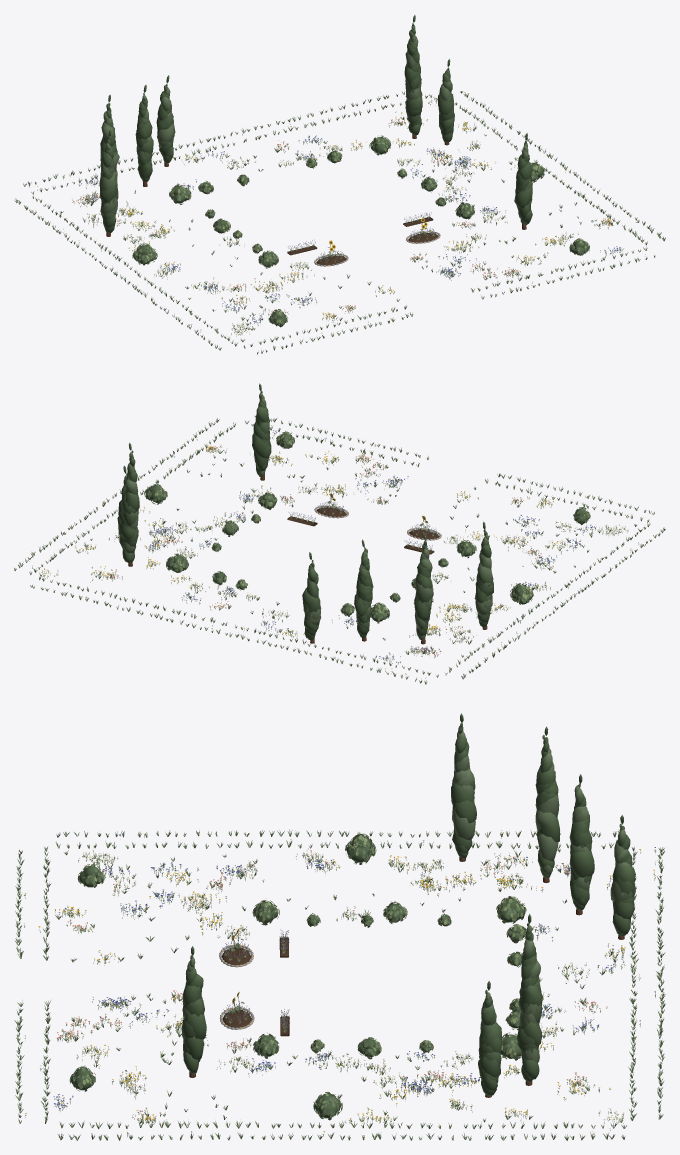
File: Museum_Ext_Vegetation.fbx
3 views of the same model, one above another, from view 1: azimuth 30°, elevation 25°; view 2: azimuth 150°, elevation 25°; view 3: azimuth 270°, elevation 25° (orthographic). The views are drawn at different scales.
Visible parts, largest first — view 1: Veg_Cypresses, Veg_Meadow, Veg_FenceGrass, Veg_Bushes, Veg_FlowerBeds; view 2: Veg_Cypresses, Veg_Meadow, Veg_FenceGrass, Veg_Bushes, Veg_FlowerBeds; view 3: Veg_Cypresses, Veg_Meadow, Veg_FenceGrass, Veg_Bushes, Veg_FlowerBeds.
Boxes of the visible parts, left/top/right/bottom form: Veg_Cypresses: left=99, top=15, right=532, bottom=236; Veg_Meadow: left=60, top=96, right=623, bottom=341; Veg_FenceGrass: left=14, top=91, right=665, bottom=354; Veg_Bushes: left=132, top=135, right=589, bottom=327; Veg_FlowerBeds: left=287, top=212, right=440, bottom=266; Veg_Cypresses: left=117, top=383, right=493, bottom=644; Veg_Meadow: left=39, top=430, right=636, bottom=664; Veg_FenceGrass: left=14, top=416, right=665, bottom=684; Veg_Bushes: left=144, top=431, right=590, bottom=623; Veg_FlowerBeds: left=287, top=493, right=441, bottom=554; Veg_Cypresses: left=181, top=713, right=635, bottom=1097; Veg_Meadow: left=53, top=847, right=625, bottom=1124; Veg_FenceGrass: left=14, top=829, right=665, bottom=1140; Veg_Bushes: left=69, top=832, right=526, bottom=1120; Veg_FlowerBeds: left=219, top=929, right=289, bottom=1036.
Bounding box in the file's own units: 43.3 × 11.36 × 38.75.
